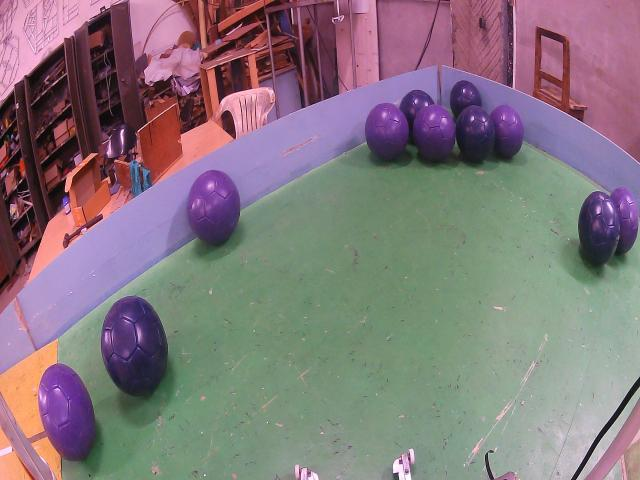jambhalya: (38, 363, 95, 462), (188, 170, 240, 245), (365, 103, 409, 160), (412, 105, 456, 160), (610, 187, 639, 253), (490, 105, 524, 158)
kaalyya: (101, 295, 168, 397), (578, 190, 620, 265), (456, 105, 495, 162), (400, 90, 434, 142), (450, 80, 481, 118)
